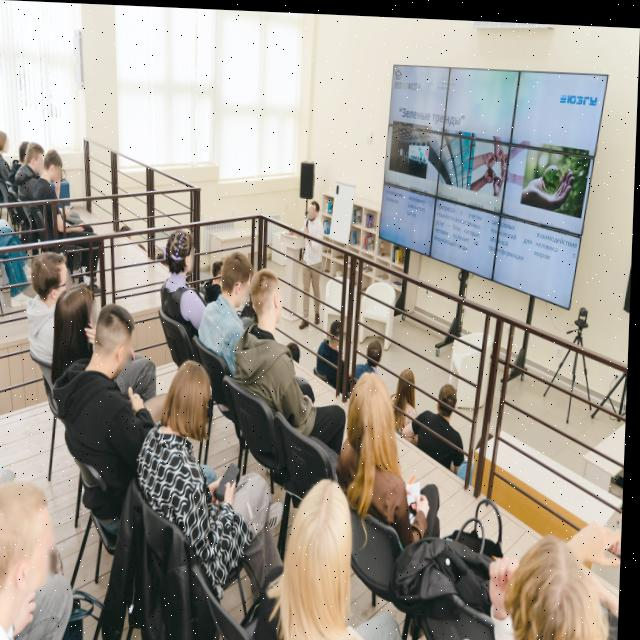Person: (141, 348, 278, 614), (269, 461, 406, 640), (331, 362, 444, 567), (468, 514, 626, 640), (240, 260, 330, 440), (73, 298, 145, 512), (0, 458, 80, 640), (29, 147, 116, 293), (207, 241, 259, 400), (12, 236, 76, 359), (295, 192, 338, 346), (49, 277, 101, 403), (424, 362, 477, 471), (155, 230, 207, 335), (387, 345, 427, 439), (11, 137, 49, 219), (320, 309, 355, 387), (364, 329, 392, 387), (0, 130, 16, 194)
